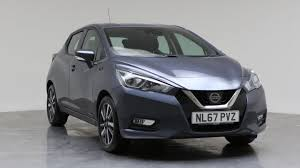Nissan: (53, 22, 266, 147)
